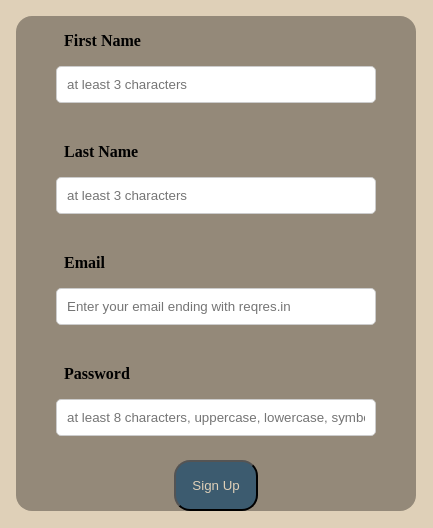
Test: form submit › should submit form with incorrect values
This screenshot has width=433, height=528.
Type "Mu" into the field named "fName" at (216, 85), box x1=56 y1=66 x2=376 y2=103
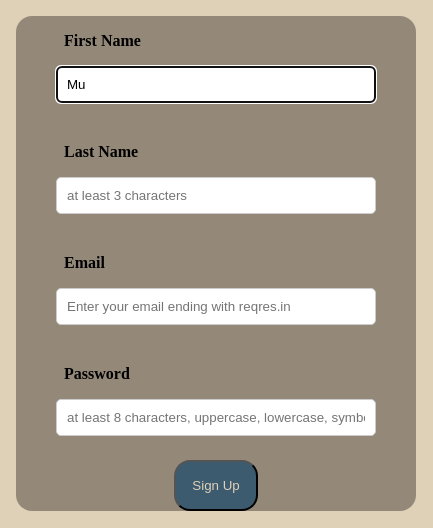
Type "R" into the field named "lName" at (216, 196), box x1=56 y1=177 x2=376 y2=214
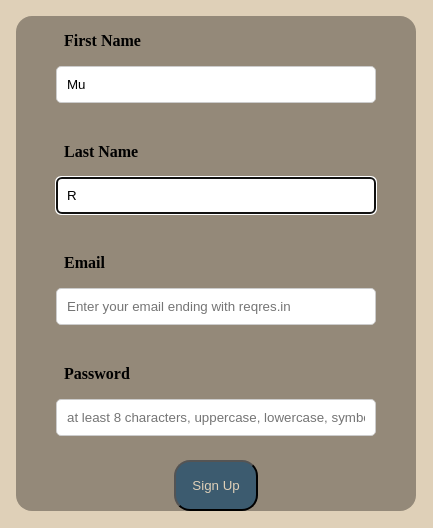
Type "Mustafa@mustafa.in" into the field named "email" at (216, 307), box x1=56 y1=288 x2=376 y2=325
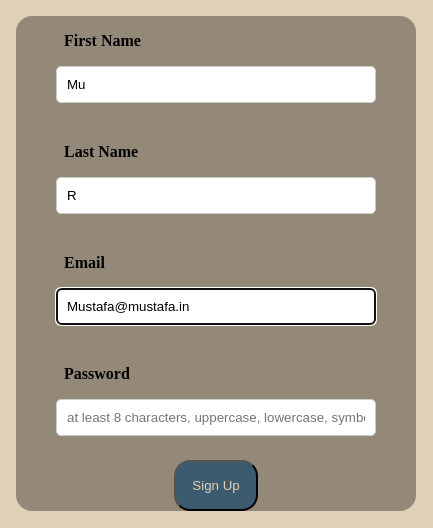
Type "Mustafa123" into the password field named "password" at (216, 418), box x1=56 y1=399 x2=376 y2=436
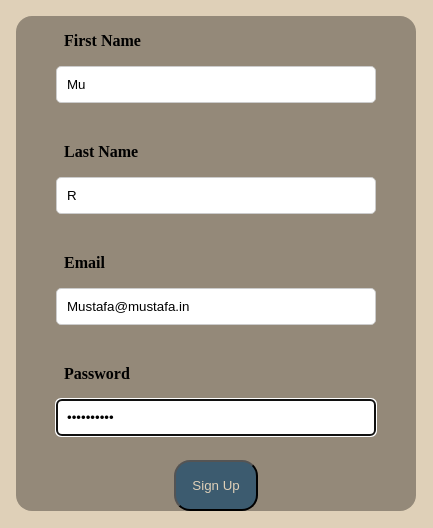
Click the submit button at (216, 486), box x1=174 y1=460 x2=257 y2=511
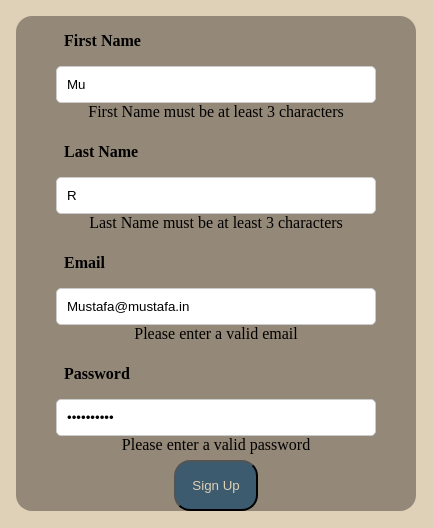
Check: the text "First Name must be at least 3 characters" is shown, box x1=88 y1=102 x2=344 y2=120
Check: the text "Last Name must be at least 3 characters" is shown, box x1=89 y1=214 x2=343 y2=230
Check: the text "Please enter a valid email" is shown, box x1=134 y1=324 x2=298 y2=342
